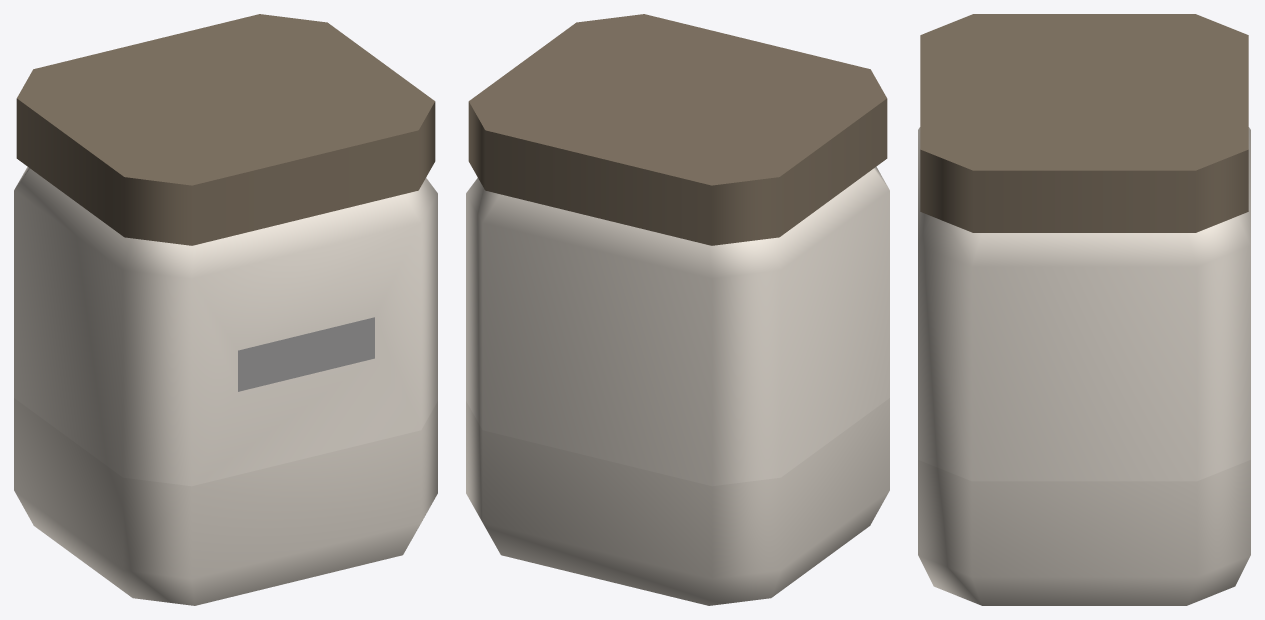
The model's file is SM_Prop_Jar_01.obj.
3 views of the same model, side by side, from view 1: azimuth 30°, elevation 25°; view 2: azimuth 150°, elevation 25°; view 3: azimuth 270°, elevation 25° (orthographic). The views are drawn at different scales.
Visible parts, largest first — view 1: SM_Prop_Jar_01_Mat_SwatchOverlay_PolygonTown_01_Inst; view 2: SM_Prop_Jar_01_Mat_SwatchOverlay_PolygonTown_01_Inst; view 3: SM_Prop_Jar_01_Mat_SwatchOverlay_PolygonTown_01_Inst.
Boxes of the visible parts, x1,y1,x2,y2 form: SM_Prop_Jar_01_Mat_SwatchOverlay_PolygonTown_01_Inst: (14,14,437,605); SM_Prop_Jar_01_Mat_SwatchOverlay_PolygonTown_01_Inst: (466,14,889,605); SM_Prop_Jar_01_Mat_SwatchOverlay_PolygonTown_01_Inst: (918,14,1250,605).
Size of the model in its own units: 0.1879 by 0.2436 by 0.1664.
1 material, 1 textured.
